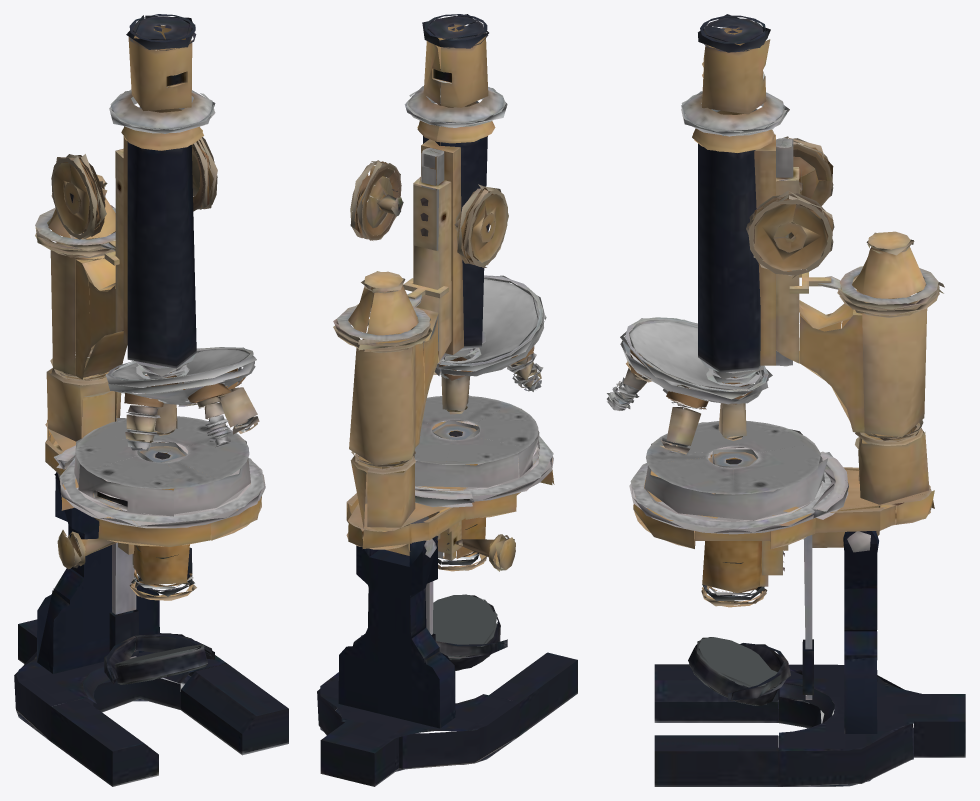
File: ph_vintage_microscope.glb
3 views of the same model, side by side, from view 1: azimuth 30°, elevation 25°; view 2: azimuth 150°, elevation 25°; view 3: azimuth 270°, elevation 25° (orthographic). The views are drawn at different scales.
Visible parts, largest first — view 1: vintage_microscope_mirror_arm; view 2: vintage_microscope_mirror_arm; view 3: vintage_microscope_mirror_arm.
Part boxes in pixels (<box>): vintage_microscope_mirror_arm: <box>14,14,288,786</box>; vintage_microscope_mirror_arm: <box>317,14,577,786</box>; vintage_microscope_mirror_arm: <box>607,14,965,786</box>.
Bounding box in the file's own units: 0.1056 × 0.3996 × 0.182.
Materials: 2 (2 with a texture image).
